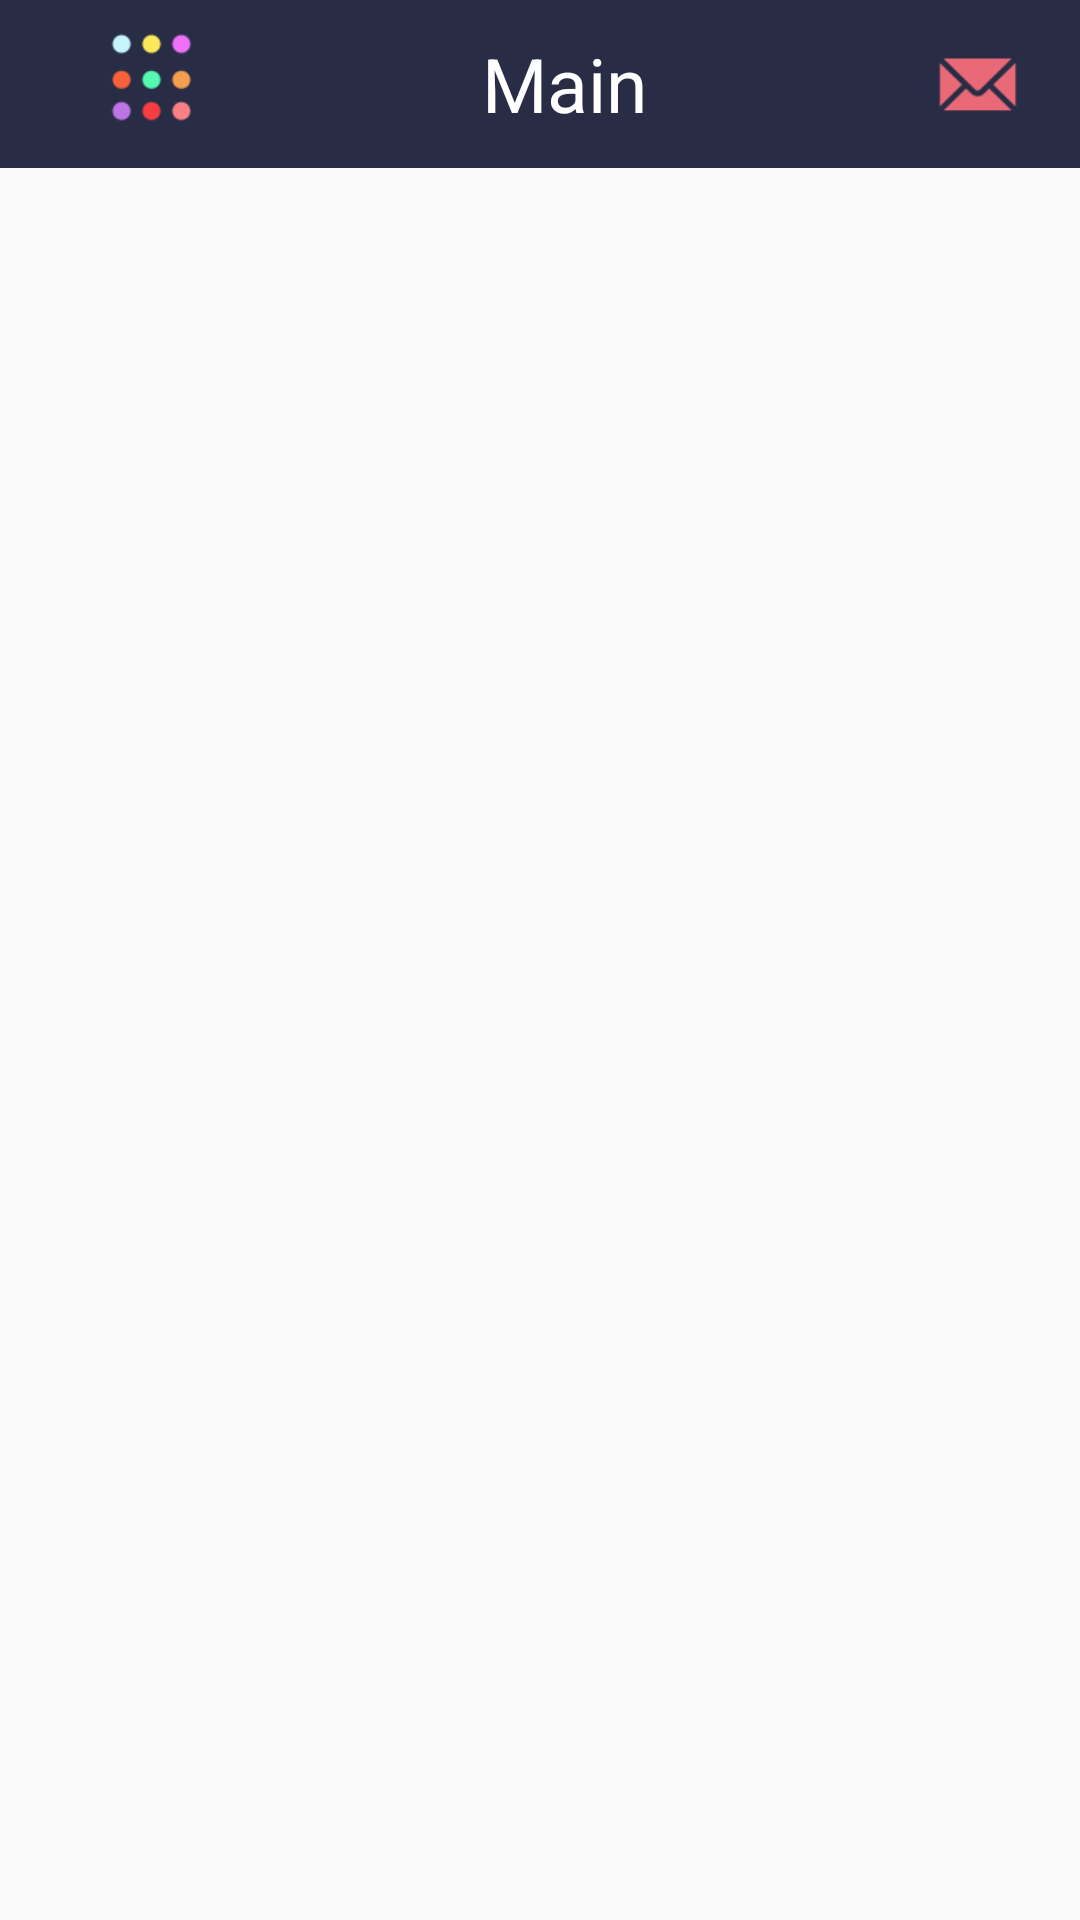

Where icons sit on this 1080px×1920px app screen, as box(x1, y1, x2, y2):
mail: box(939, 58, 1017, 111)
menu: box(112, 34, 191, 121)
